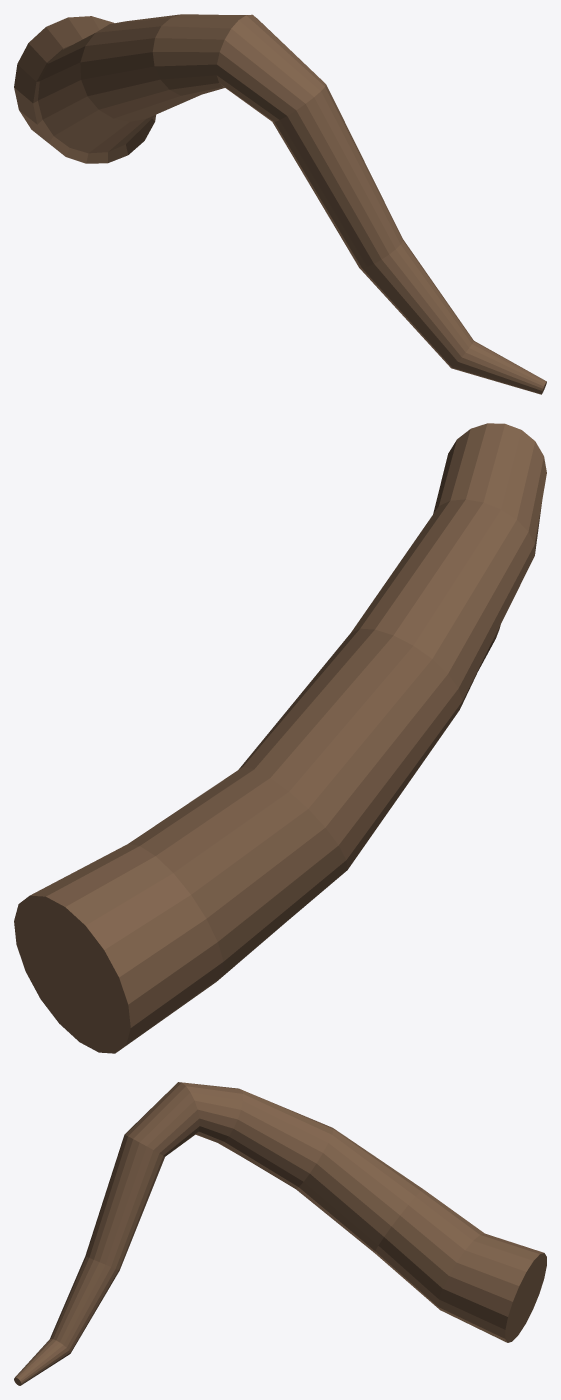
Rendered from Root_Large_A.glb.
3 views of the same model, one above another, from view 1: azimuth 30°, elevation 25°; view 2: azimuth 150°, elevation 25°; view 3: azimuth 270°, elevation 25° (orthographic). The views are drawn at different scales.
Visible parts, largest first — view 1: Root_Large_A; view 2: Root_Large_A; view 3: Root_Large_A.
Part boxes in pixels (box(x1,y1,x2,y2)): Root_Large_A: box(14, 14, 546, 394); Root_Large_A: box(14, 423, 546, 1053); Root_Large_A: box(14, 1082, 546, 1385).
Size of the model in its own units: 4.93 by 6.2 by 12.58.
